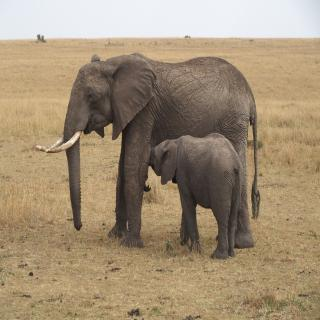Elephant: (36, 44, 264, 255), (142, 124, 244, 264)
